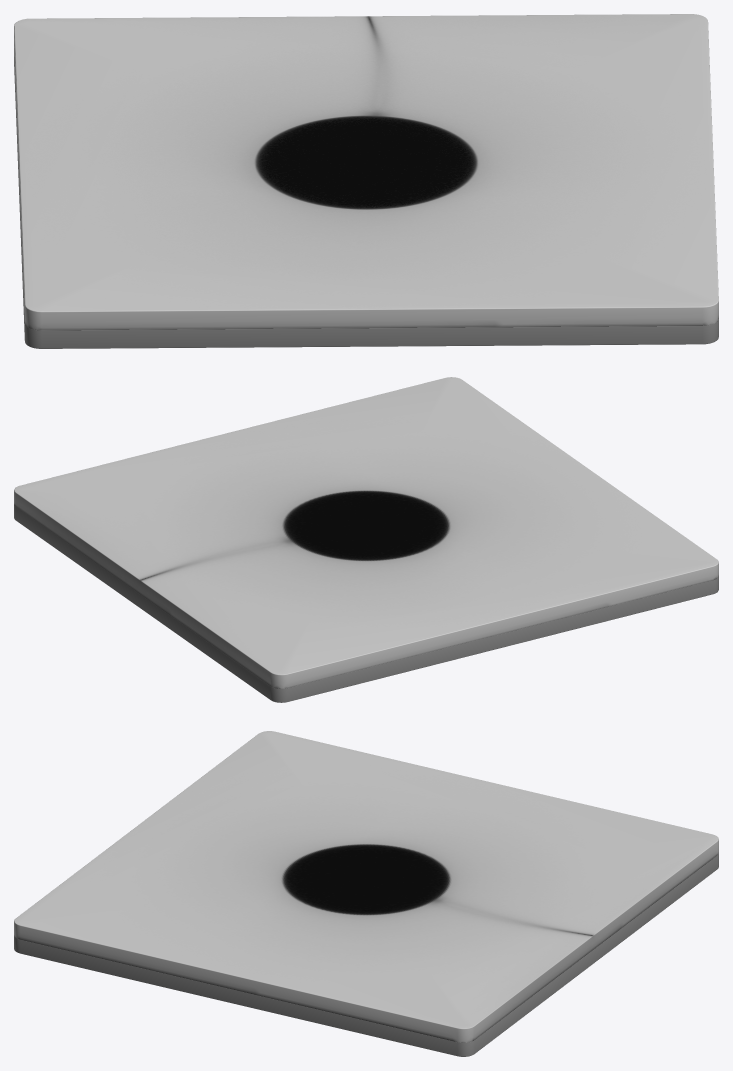
File: Phone_Charger_Model_for_WebGL_Scene_Table_Only4.glb
3 renders of one model, top to bottom at view 1: azimuth 30°, elevation 25°; view 2: azimuth 150°, elevation 25°; view 3: azimuth 270°, elevation 25°, orthographic. The views are drawn at different scales.
Parts seen in each view (by area): view 1: Plane.005, Plane.004; view 2: Plane.005, Plane.004; view 3: Plane.005, Plane.004.
Part boxes in pixels (<box>): Plane.005: <box>14,14,718,330</box>; Plane.004: <box>14,48,718,348</box>; Plane.005: <box>14,377,718,688</box>; Plane.004: <box>14,504,718,702</box>; Plane.005: <box>14,731,718,1042</box>; Plane.004: <box>14,853,718,1056</box>.
Bounding box in the file's own units: 30.12 × 1.34 × 30.12.
Materials: 2 (1 with a texture image).
